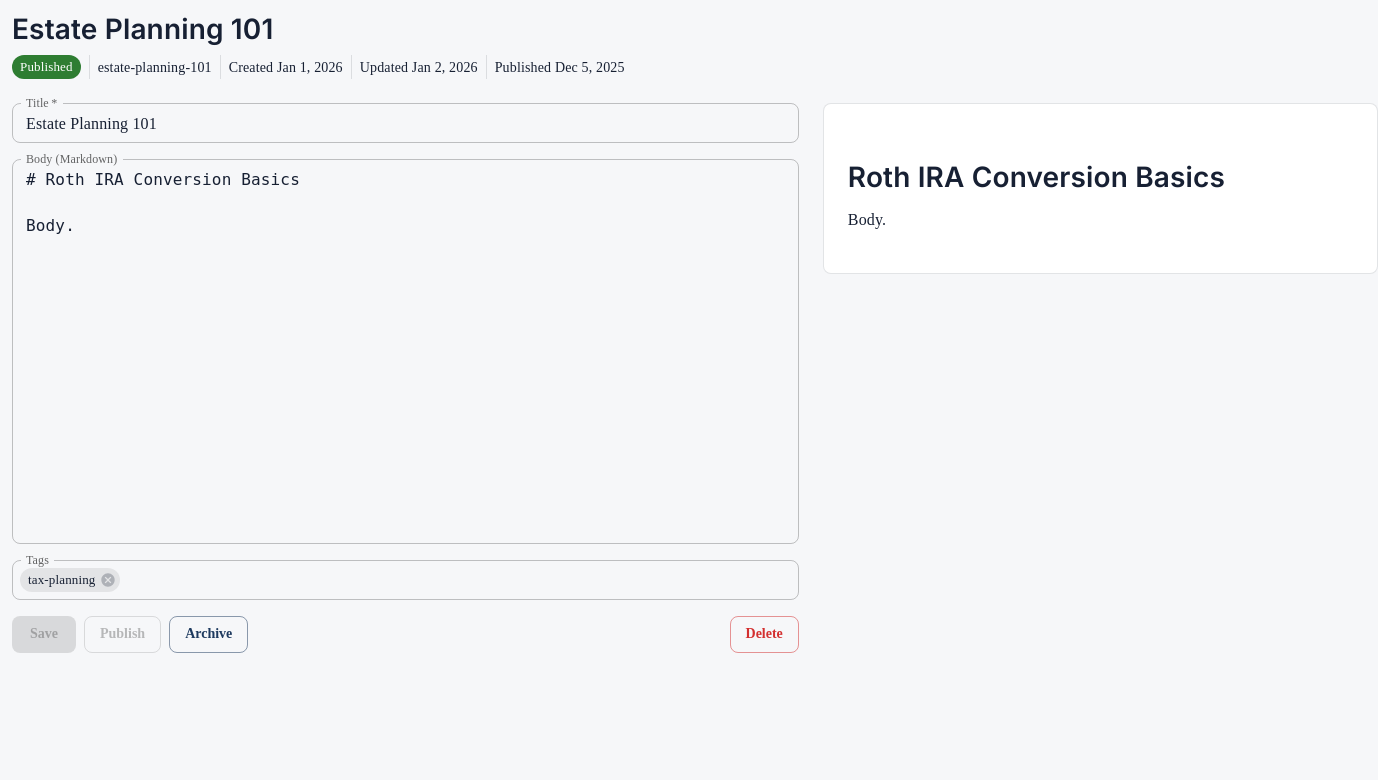
Scenario: ContentEditorScreen › published: Publish is disabled with an "Already published" tooltip; Archive is enabled
Hover over the element showing "Publish": (123, 634) x1=84 y1=616 x2=161 y2=652
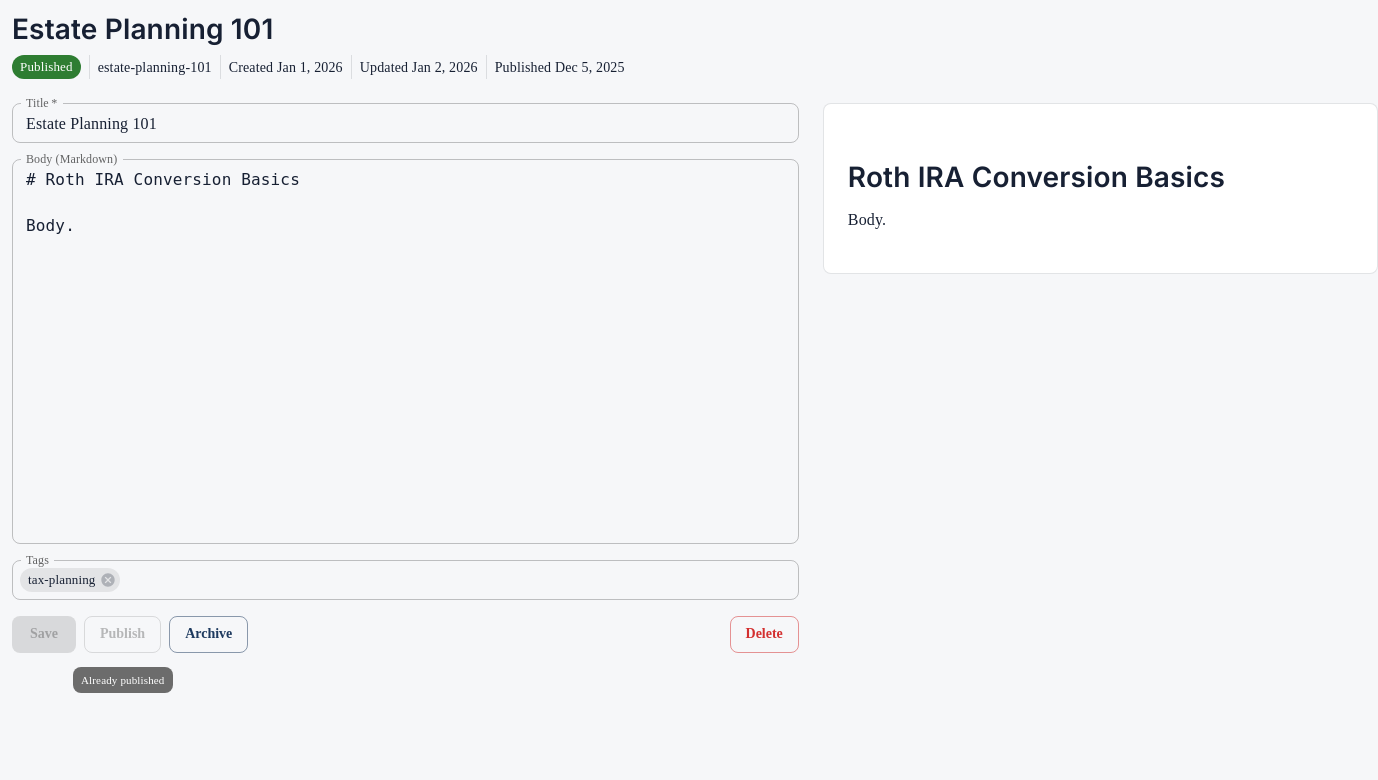
expect the button "Archive" is enabled: met, box x1=169 y1=616 x2=248 y2=652
expect the tooltip reads "Already published": met, box x1=81 y1=674 x2=164 y2=686
